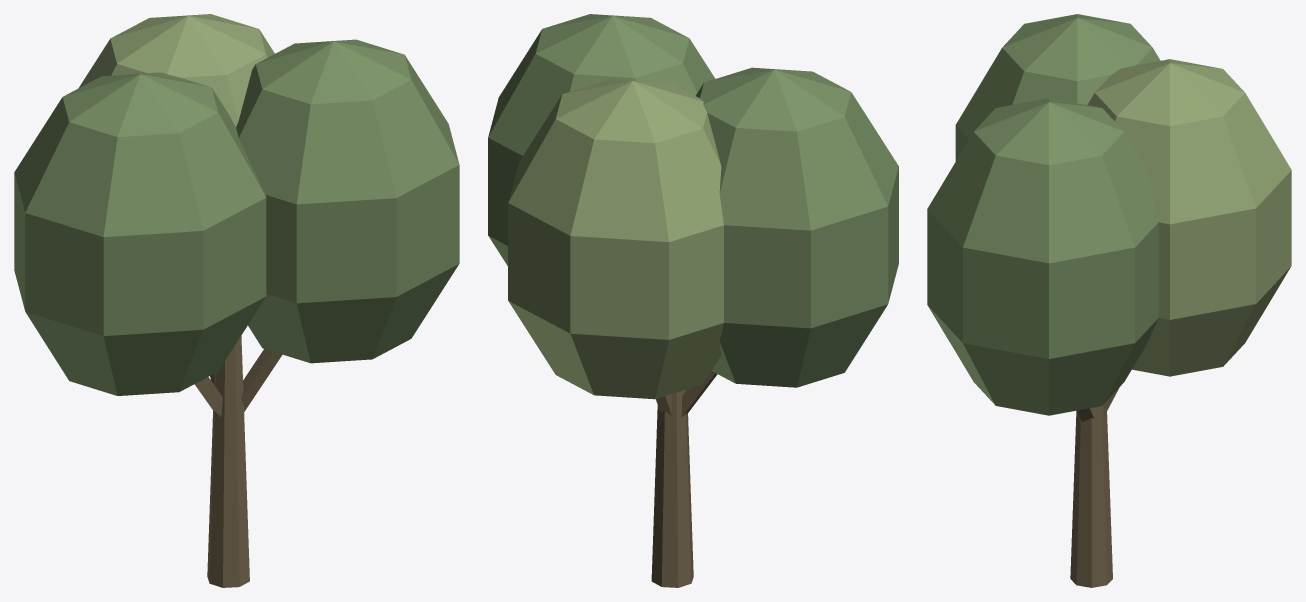
Rendered from tree-broad.glb.
The picture shows the model from 3 angles, left to right: view 1: azimuth 30°, elevation 25°; view 2: azimuth 150°, elevation 25°; view 3: azimuth 270°, elevation 25°; orthographic projection. The views are drawn at different scales.
Visible parts, largest first — view 1: tree-broad; view 2: tree-broad; view 3: tree-broad.
Part boxes in pixels (x1,y1,x2,y2): tree-broad: (14, 14, 459, 587); tree-broad: (488, 14, 898, 587); tree-broad: (927, 14, 1291, 587).
Bounding box in the file's own units: 6.41 × 8 × 5.12.
